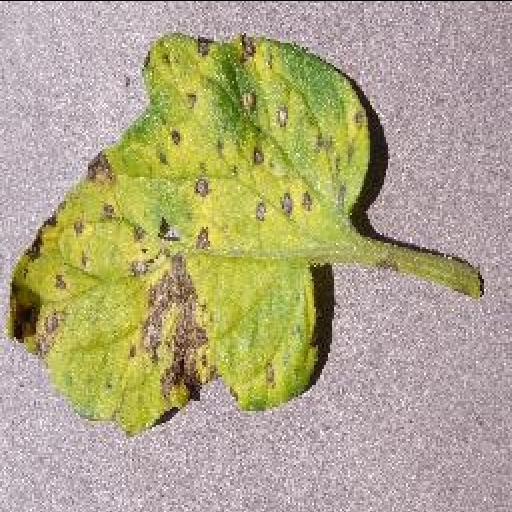disease_tomato: (4, 30, 374, 430)
